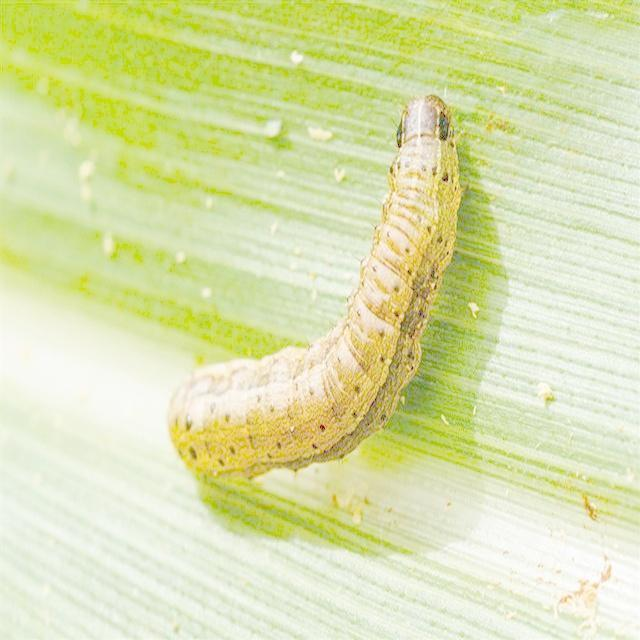gusano_cogollero: (158, 88, 466, 484)
